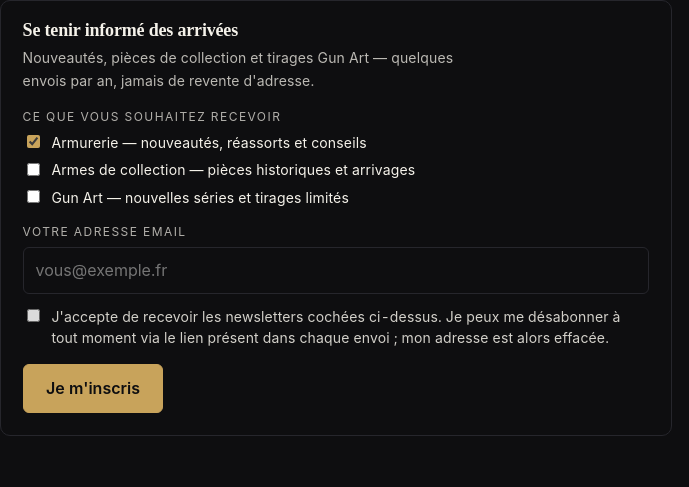
Test: NewsletterSignup › refuses to submit with no segment selected rather than subscribing to all
Click the checkbox labelled "Armurerie — nouveautés, réassorts et conseils" at (33, 142), box [27,135,40,148]
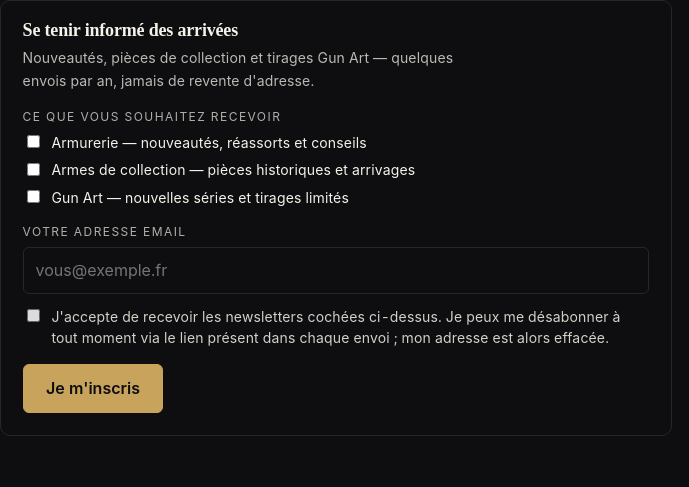
Type "client@example.test" into the field labelled "Votre adresse email" at (336, 271), box [23,247,649,294]
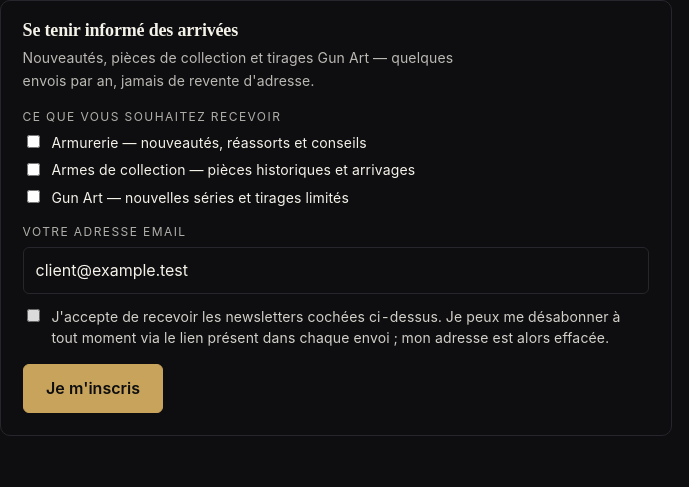
Click the 4th checkbox at (33, 315), box [27,309,40,322]
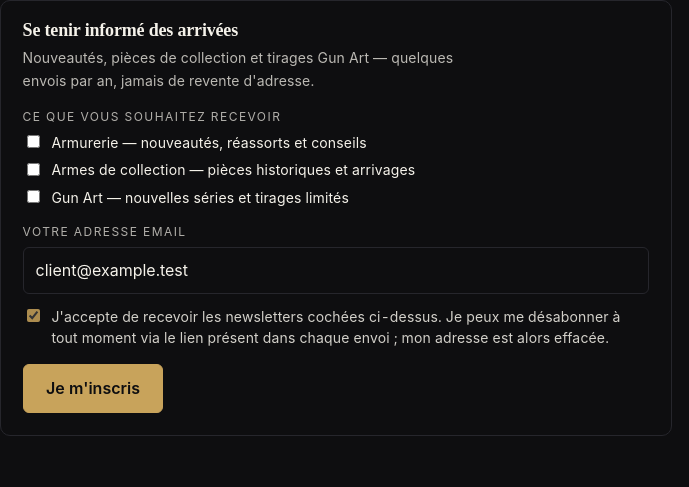
Submit the form
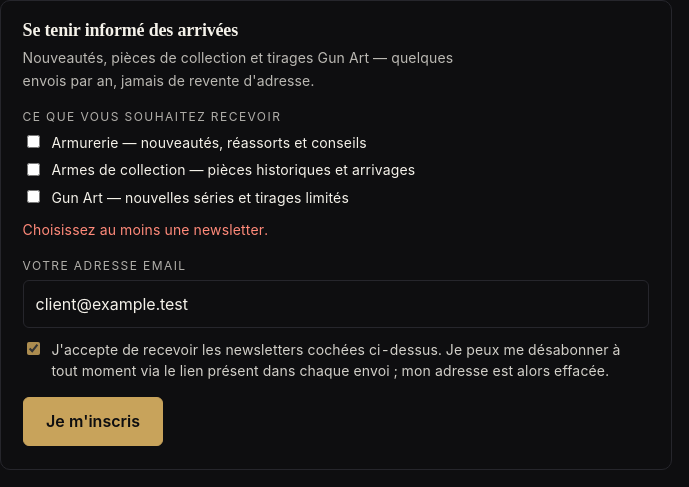
expect the text "Choisissez au moins une newsletter." is shown: met, box [23,221,268,238]
